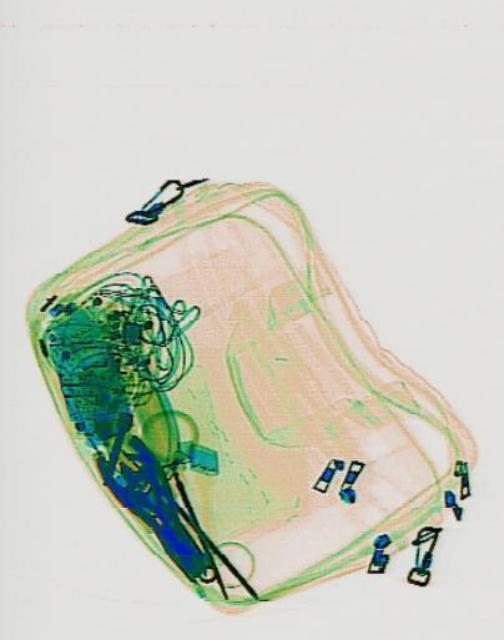Pliers: (91, 424, 208, 580)
